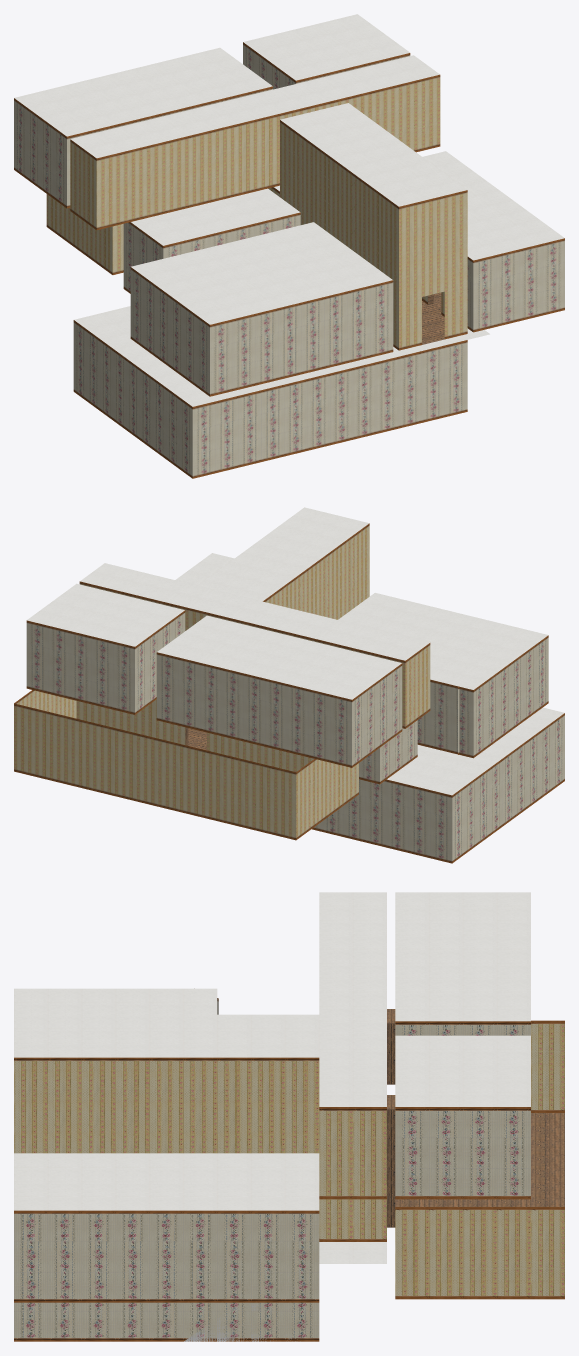
The model's file is casa.fbx.
The picture shows the model from 3 angles, top to bottom: view 1: azimuth 30°, elevation 25°; view 2: azimuth 150°, elevation 25°; view 3: azimuth 270°, elevation 25°; orthographic projection. The views are drawn at different scales.
Parts seen in each view (by area): view 1: Plane.290, Plane.153, Plane.1478, Plane.1477, Plane.768, Plane.362, Plane.151, Plane.067, Plane.063, Plane.1479, Plane.1471, Plane.766 (+61 smaller); view 2: Plane.1322, Plane.1468, Plane.1466, Plane.1353, Plane.1232, Plane.1220, Plane.1218, Plane.1138, Plane.1343, Plane.1342, Plane.1323, Plane.1321 (+88 smaller); view 3: Plane.1055, Plane.1298, Plane.1295, Plane.1292, Plane.1299, Plane.1294, Plane.1293, Plane.1123, Plane.1120, Plane.1117, Plane.802, Plane.797 (+91 smaller).
Boxes of the visible parts, x1,y1,x2,y2 form: Plane.290: (422, 301, 444, 344); Plane.153: (370, 280, 393, 309); Plane.1478: (307, 397, 330, 426); Plane.1477: (307, 421, 330, 450); Plane.768: (496, 273, 519, 302); Plane.362: (444, 214, 467, 243); Plane.151: (324, 291, 347, 320); Plane.067: (255, 356, 278, 385); Plane.063: (370, 304, 393, 333); Plane.1479: (261, 408, 284, 437); Plane.1471: (192, 449, 215, 478); Plane.766: (496, 297, 519, 326); Plane.1322: (252, 784, 274, 812); Plane.1468: (430, 835, 452, 863); Plane.1466: (408, 785, 430, 812); Plane.1353: (35, 754, 57, 781); Plane.1232: (156, 675, 178, 702); Plane.1220: (243, 673, 265, 701); Plane.1218: (243, 696, 265, 723); Plane.1138: (26, 666, 48, 693); Plane.1343: (122, 753, 144, 780); Plane.1342: (122, 775, 144, 802); Plane.1323: (252, 807, 274, 834); Plane.1321: (252, 762, 274, 789); Plane.1055: (395, 1113, 564, 1206); Plane.1298: (463, 1237, 497, 1268); Plane.1295: (395, 1237, 429, 1268); Plane.1292: (429, 1237, 463, 1268); Plane.1299: (463, 1268, 497, 1299); Plane.1294: (395, 1268, 429, 1299); Plane.1293: (429, 1268, 463, 1299); Plane.1123: (429, 1168, 463, 1199); Plane.1120: (395, 1168, 429, 1199); Plane.1117: (463, 1168, 497, 1199); Plane.802: (251, 1210, 285, 1241); Plane.797: (285, 1210, 319, 1241).
Bounding box in the file's own units: 3250 × 1900 × 3250.
